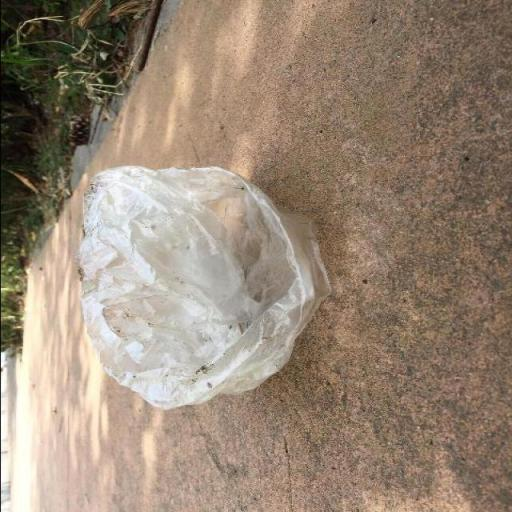plastic-bag: (72, 162, 334, 409)
